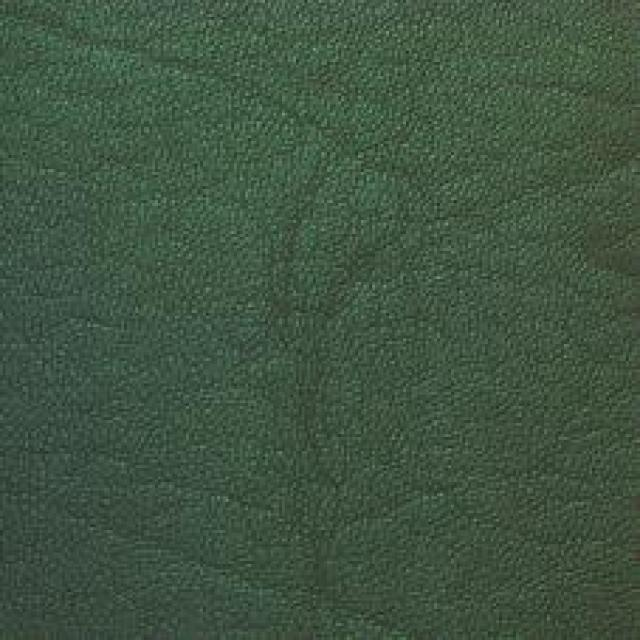Growth Marks: (233, 308, 402, 588), (128, 30, 378, 175)
